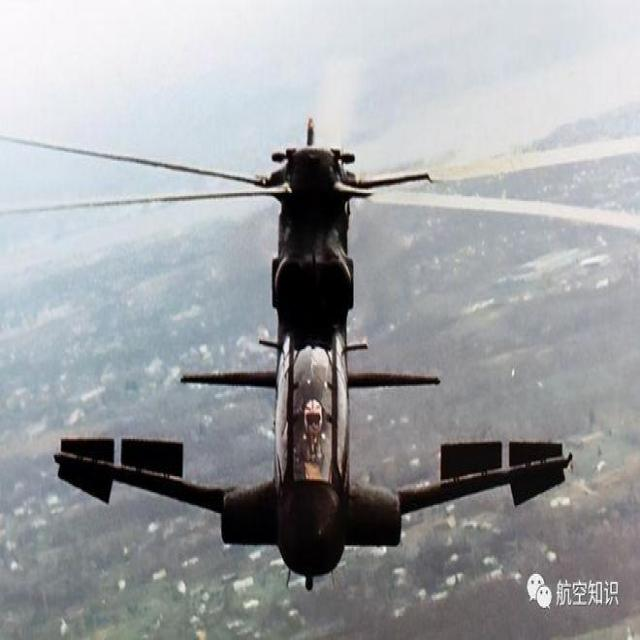MIL_HELO: (2, 114, 630, 602)
